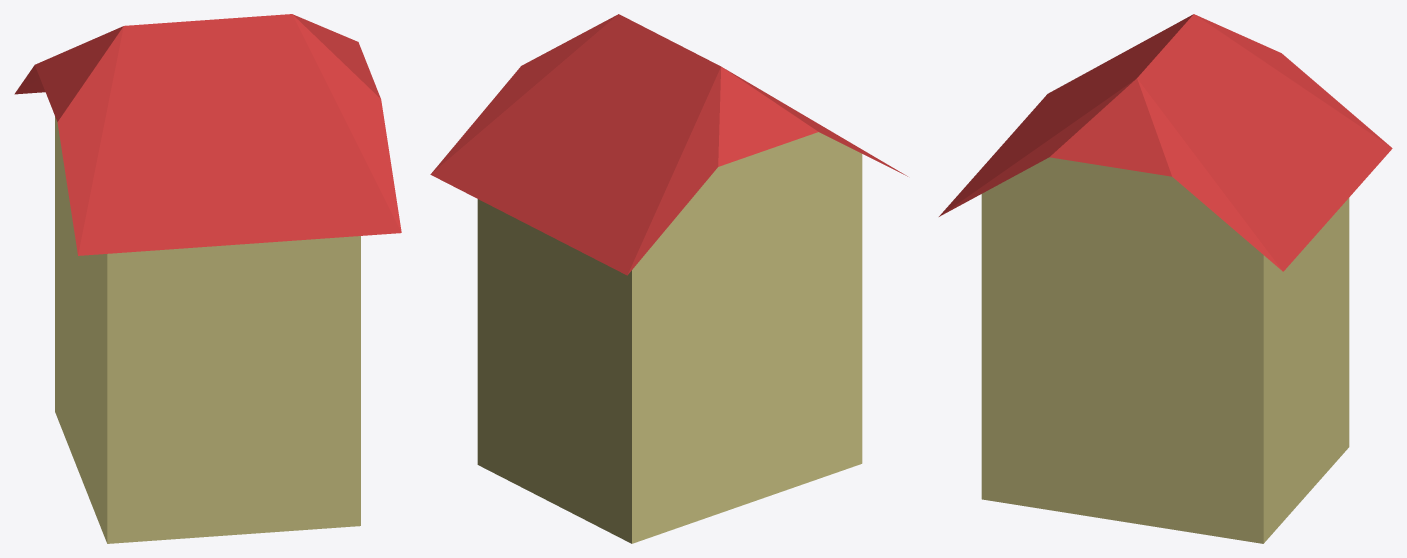
3 renders of one model, left to right at view 1: azimuth 30°, elevation 25°; view 2: azimuth 150°, elevation 25°; view 3: azimuth 270°, elevation 25°, orthographic. The views are drawn at different scales.
Visible parts, largest first — view 1: group_5, group_3, group_4; view 2: group_5, group_3, group_4; view 3: group_5, group_3, group_4.
Part boxes in pixels (bbox=[...]): group_5: bbox=[55, 116, 360, 543]; group_3: bbox=[15, 14, 401, 255]; group_4: bbox=[15, 47, 401, 232]; group_5: bbox=[477, 132, 862, 543]; group_3: bbox=[430, 14, 907, 275]; group_4: bbox=[628, 103, 817, 274]; group_5: bbox=[981, 157, 1349, 543]; group_3: bbox=[939, 14, 1392, 271]; group_4: bbox=[939, 36, 1391, 216].
Bounding box in the file's own units: 12.46 × 13.44 × 13.94.
